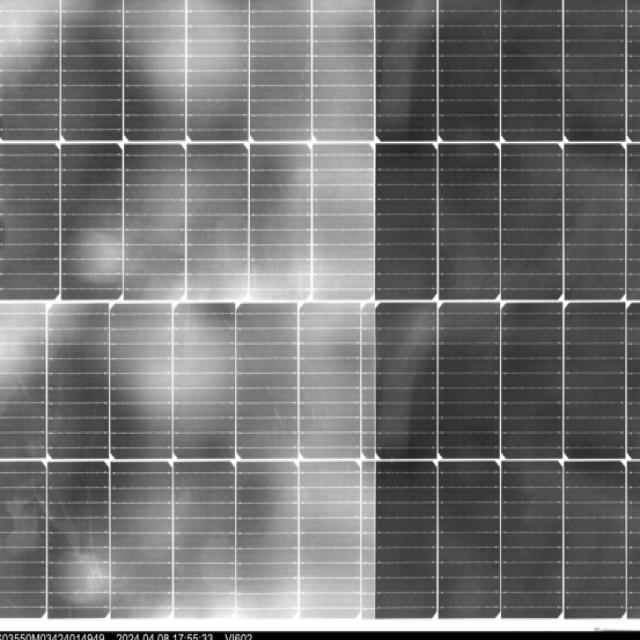MISALIGNMENT: (15, 257, 256, 337), (306, 283, 460, 331)
